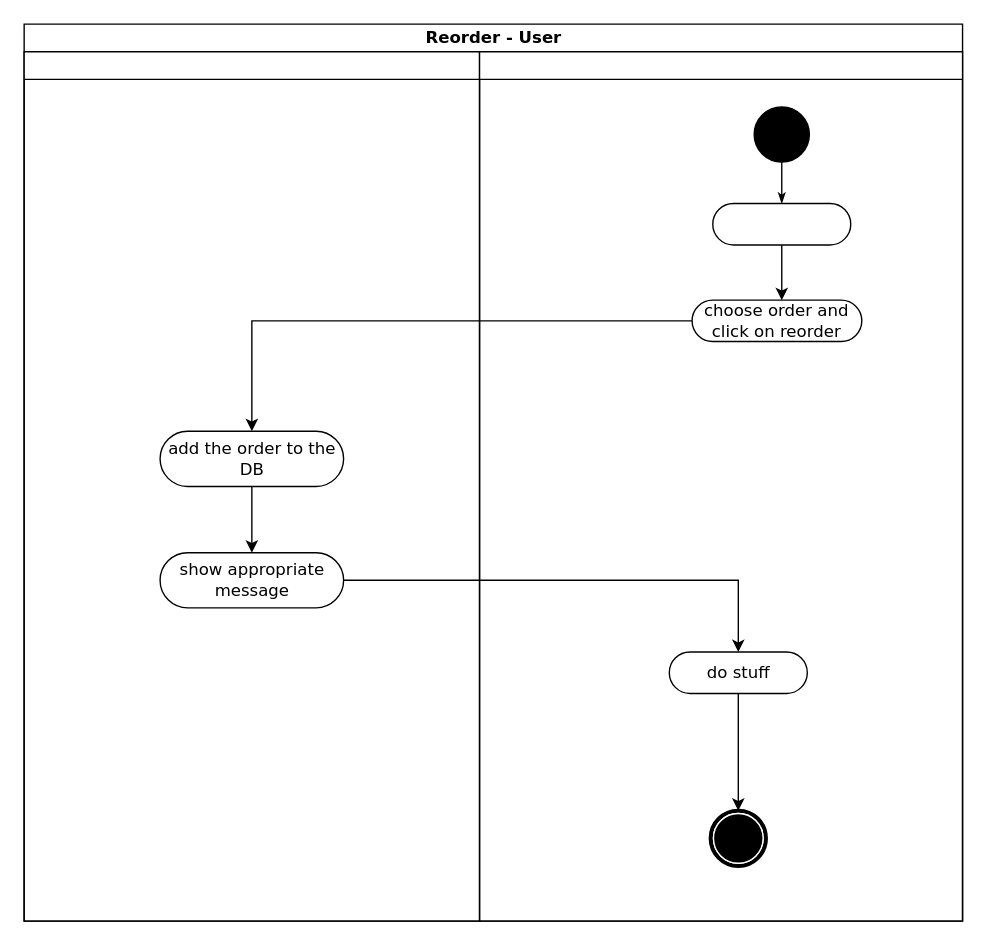
The diagram is 987 pixels wide and 945 high, and some of its shapes have lost their labels. Here are the shapes that lost their labels. From the top down, the box of each, then its label:
(711, 202, 851, 245): Click "Show Orders"
(23, 50, 480, 921): System
(478, 50, 963, 921): User
